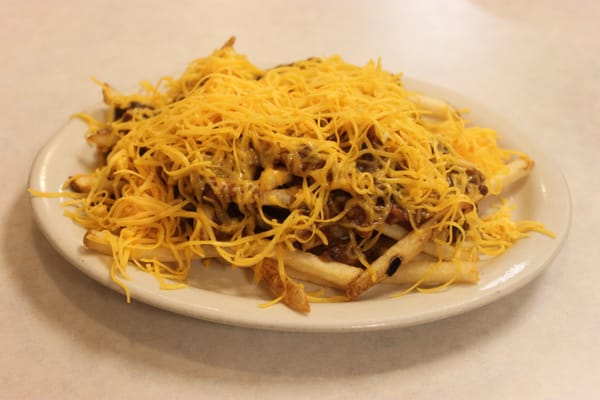curry: (9, 1, 598, 394)
